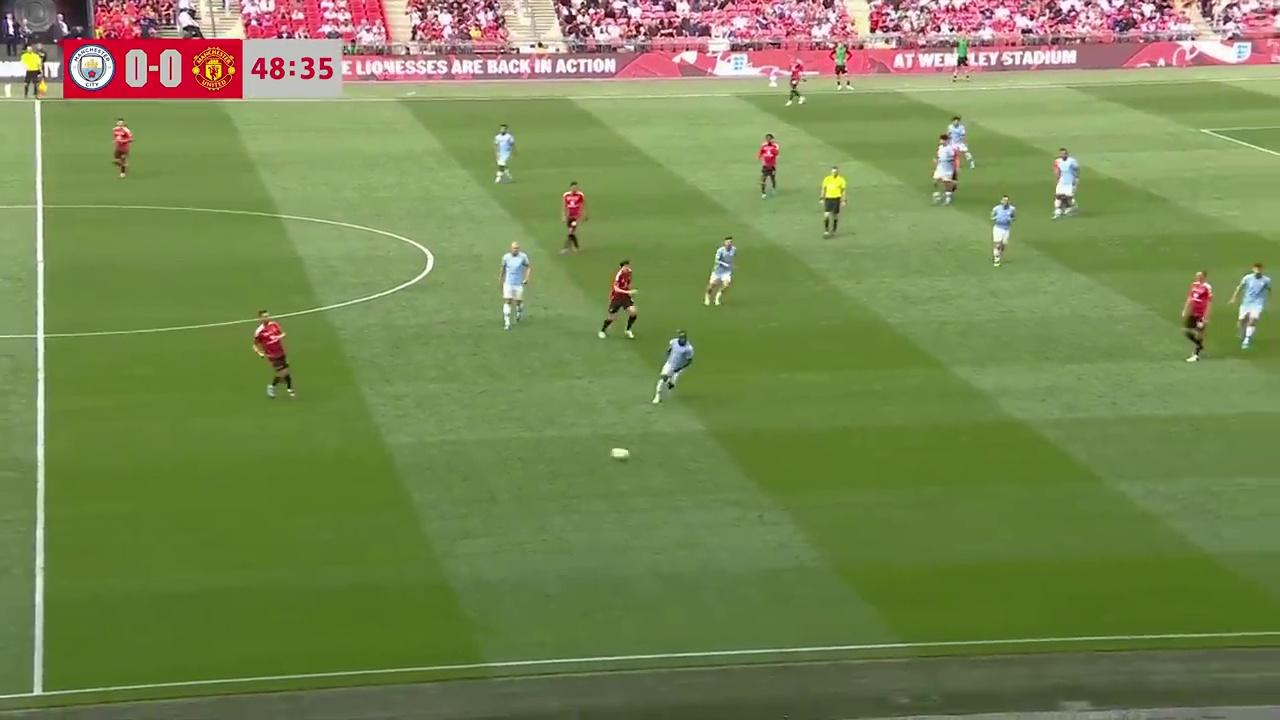ball: (609, 443, 632, 462)
player: (252, 311, 296, 399), (1228, 261, 1272, 341), (598, 259, 638, 340), (651, 329, 694, 403), (1180, 270, 1214, 362), (499, 241, 531, 328), (703, 236, 737, 306), (561, 180, 588, 254), (989, 193, 1016, 266), (1052, 147, 1079, 219), (931, 138, 959, 204), (755, 132, 779, 198), (947, 115, 975, 169), (111, 119, 133, 178), (493, 124, 515, 183), (785, 60, 806, 106)
referee: (820, 165, 847, 238), (20, 43, 44, 100)
